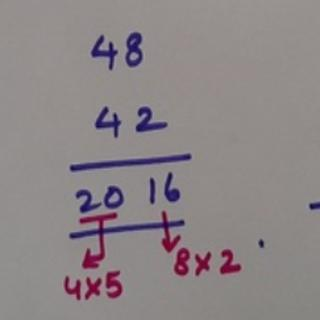.: (255, 235, 266, 251)
0: (103, 185, 125, 208)
1: (147, 176, 162, 202)
2: (218, 248, 243, 276), (136, 106, 162, 132), (76, 188, 100, 214)
4: (97, 106, 124, 141), (92, 34, 117, 71), (63, 274, 83, 303)
5: (104, 269, 125, 298)
6: (164, 171, 183, 205)
8: (126, 31, 145, 68), (172, 248, 190, 275)
